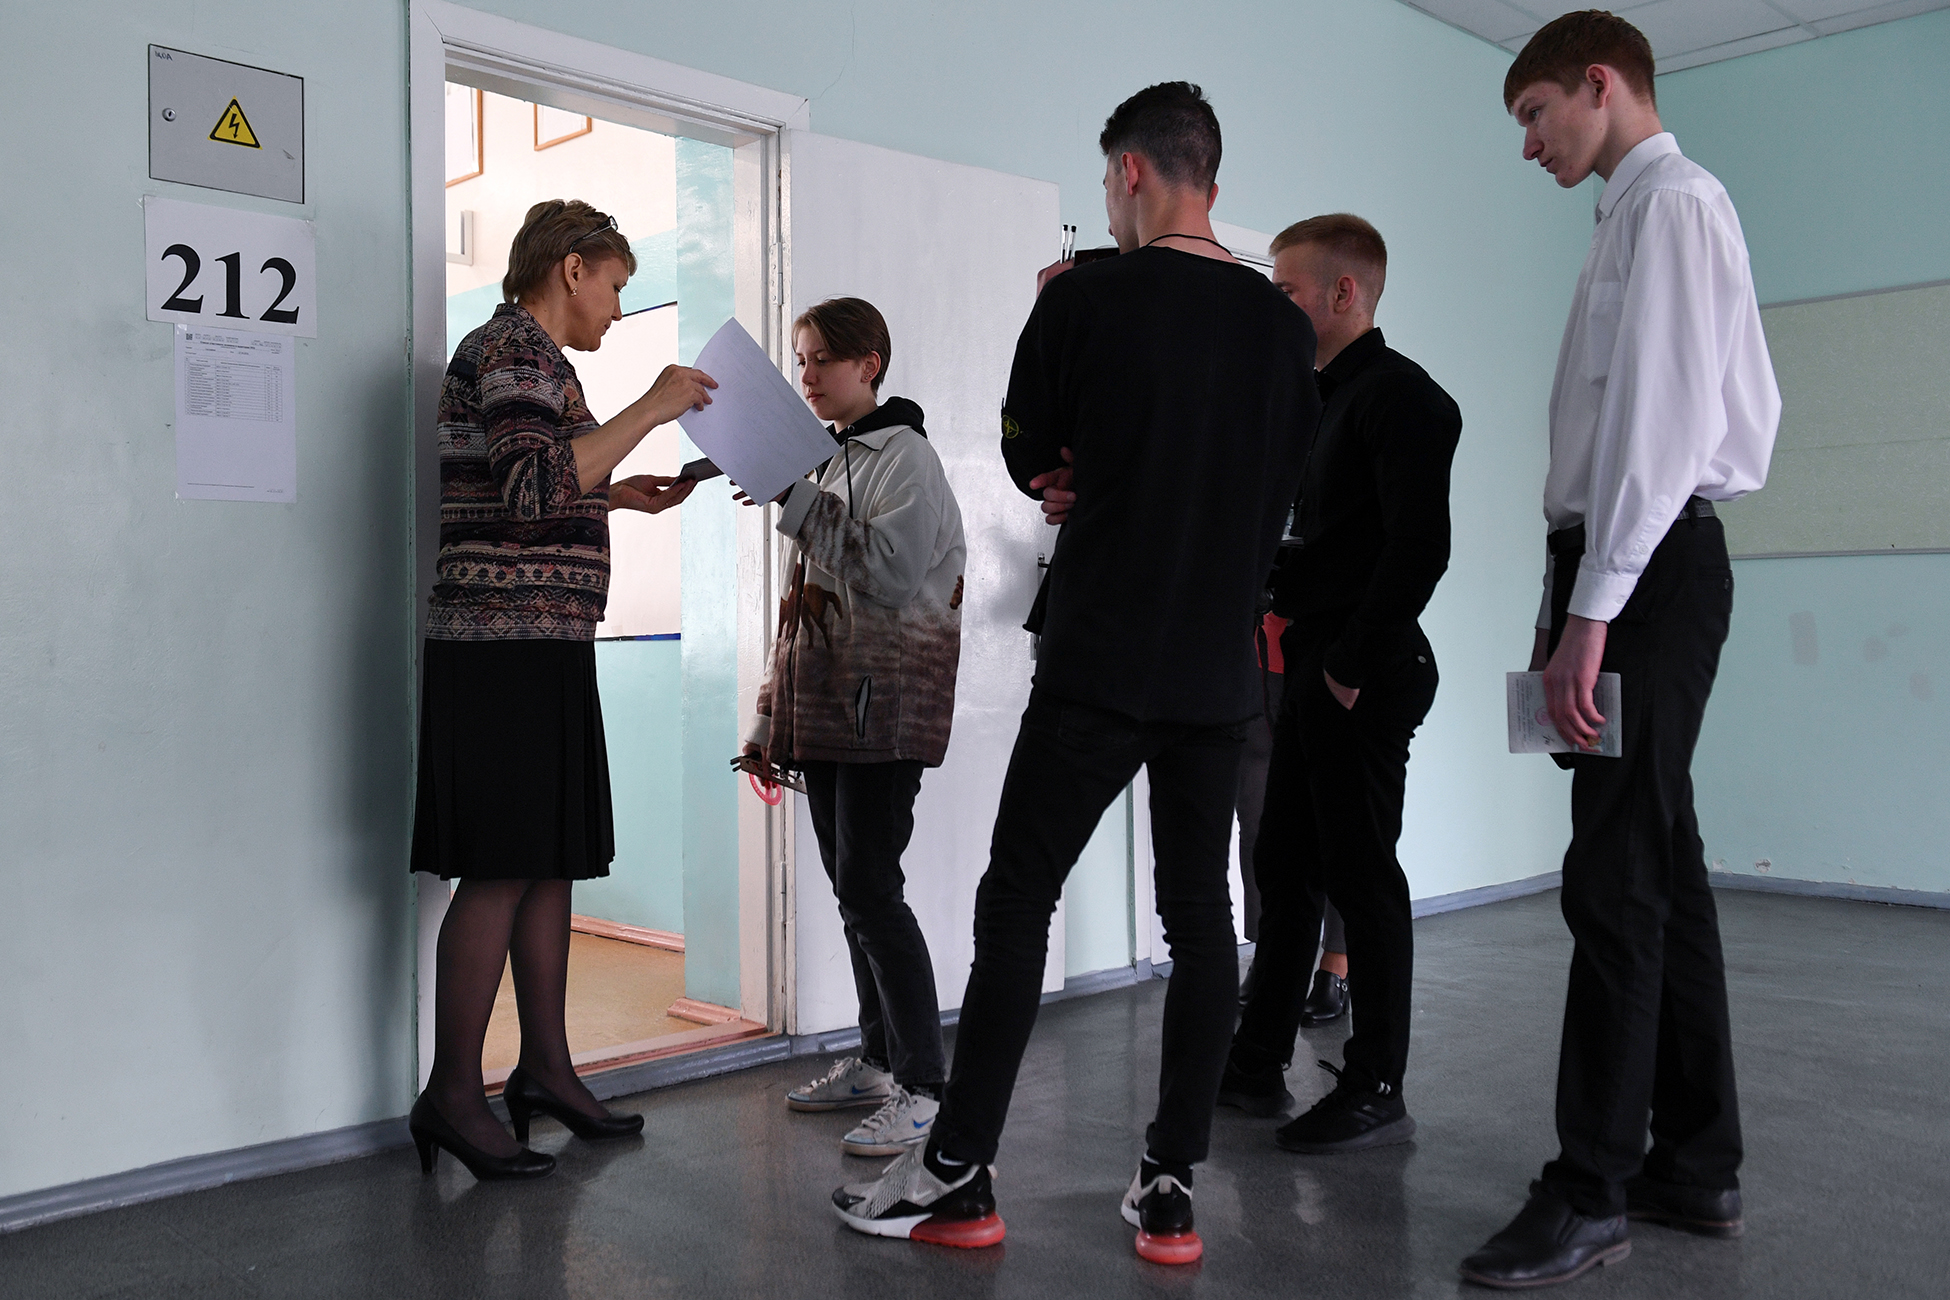students: (834, 80, 1312, 1264), (1450, 10, 1777, 1288), (415, 198, 721, 1168), (1215, 211, 1454, 1142), (739, 294, 966, 1161)
